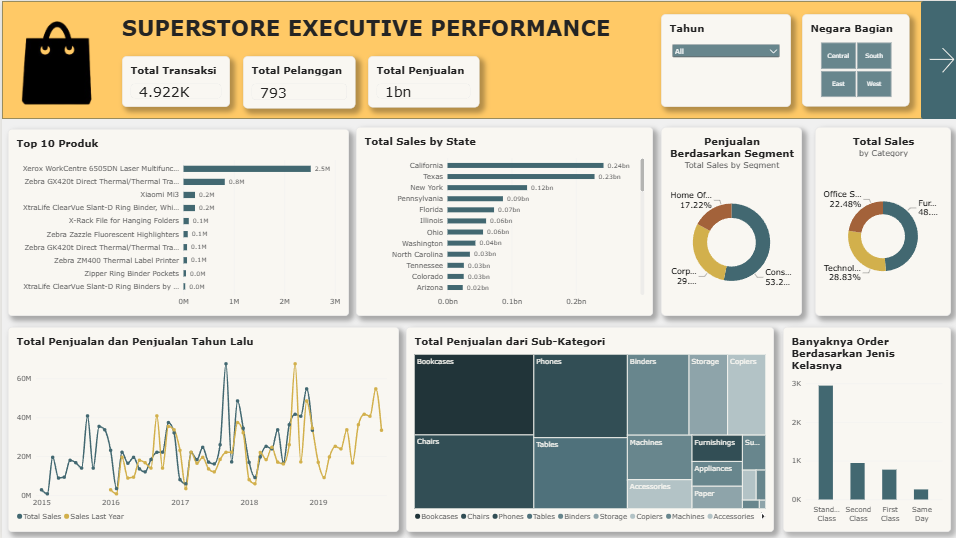

The dashboard page shown, as its layout file describes it:
{"tool":"powerbi","page":{"name":"Page 1","canvas":[1920,1080],"ordinal":0},"visuals":[{"type":"shape","box":[0,0,1920,236],"z":0},{"type":"lineChart","title":"Total Penjualan dan Penjualan Tahun Lalu","fields":{"Category":["Dim_Date.Date.Variation.Date Hierarchy.Year","Dim_Date.Date.Variation.Date Hierarchy.Month"],"Y":["Fact_Sales.Total Sales","Fact_Sales.Sales Last Year"]},"box":[12,652,782,410],"z":1000},{"type":"clusteredBarChart","title":"Top 10 Produk","fields":{"Category":["Dim_Product.Product Name"],"Y":["Fact_Sales.Total Sales"]},"box":[12,256,682,374],"z":2000},{"type":"cardVisual","title":"Total Penjualan","fields":{"Data":["Sum(Fact_Sales.Sales)"]},"box":[732.1,110.8,222.5,102.5],"z":3000},{"type":"pieChart","fields":{"Category":["Dim_Product.Category"],"Y":["Fact_Sales.Total Sales"]},"box":[1626,252,272,378],"z":4000},{"type":"clusteredBarChart","fields":{"Category":["Fact_Sales.State"],"Y":["Fact_Sales.Total Sales"]},"box":[708,252,594,378],"z":5000},{"type":"slicer","title":"Negara Bagian","fields":{"Values":["Fact_Sales.Region"]},"box":[1600,26,215,185],"z":6000},{"type":"slicer","title":"Tahun","fields":{"Values":["Dim_Date.Date.Variation.Date Hierarchy.Year"]},"box":[1318,26,260,186],"z":7000},{"type":"cardVisual","title":"Total Pelanggan","fields":{"Data":["Count(Dim_Customer.Customer ID)"]},"box":[482.1,110.8,225,105],"z":8000},{"type":"donutChart","title":"Penjualan Berdasarkan Segment","fields":{"Category":["Dim_Customer.Segment"],"Y":["Fact_Sales.Total Sales"]},"box":[1318,252,282,378],"z":9000},{"type":"cardVisual","title":"Total Transaksi","fields":{"Data":["Count(Fact_Sales.Order ID)"]},"box":[240,110,216,102],"z":10000},{"type":"treemap","title":"Total Penjualan dari Sub-Kategori","fields":{"Group":["Dim_Product.Sub-Category"],"Values":["Fact_Sales.Total Sales"]},"box":[808,652,736,410],"z":11000},{"type":"columnChart","title":"Banyaknya Order Berdasarkan Jenis  Kelasnya","fields":{"Category":["Fact_Sales.Ship Mode"],"Y":["Count(Fact_Sales.Order ID)"]},"box":[1562,652,336,410],"z":12000},{"type":"image","box":[37.5,32.5,145,185],"z":13000},{"type":"actionButton","box":[1838,0,82,236],"z":14000},{"type":"textbox","box":[240,26,1004,70],"z":15000}]}

Visuals, with their boxes in screenshot pixels (x1, y1, x2, y2), scaled from the page's 1920x1080 canvas onto the 956x538 screenshot:
shape: <region>0, 0, 955, 118</region>
"Total Penjualan dan Penjualan Tahun Lalu" lineChart: <region>6, 325, 395, 529</region>
"Top 10 Produk" clusteredBarChart: <region>6, 128, 346, 314</region>
"Total Penjualan" cardVisual: <region>365, 55, 475, 106</region>
pieChart - Dim_Product.Category x Fact_Sales.Total Sales: <region>810, 126, 945, 314</region>
clusteredBarChart - Fact_Sales.State x Fact_Sales.Total Sales: <region>353, 126, 648, 314</region>
"Negara Bagian" slicer: <region>797, 13, 904, 105</region>
"Tahun" slicer: <region>656, 13, 786, 106</region>
"Total Pelanggan" cardVisual: <region>240, 55, 352, 108</region>
"Penjualan Berdasarkan Segment" donutChart: <region>656, 126, 797, 314</region>
"Total Transaksi" cardVisual: <region>120, 55, 227, 106</region>
"Total Penjualan dari Sub-Kategori" treemap: <region>402, 325, 769, 529</region>
"Banyaknya Order Berdasarkan Jenis  Kelasnya" columnChart: <region>778, 325, 945, 529</region>
image: <region>19, 16, 91, 108</region>
actionButton: <region>915, 0, 955, 118</region>
textbox: <region>120, 13, 619, 48</region>
